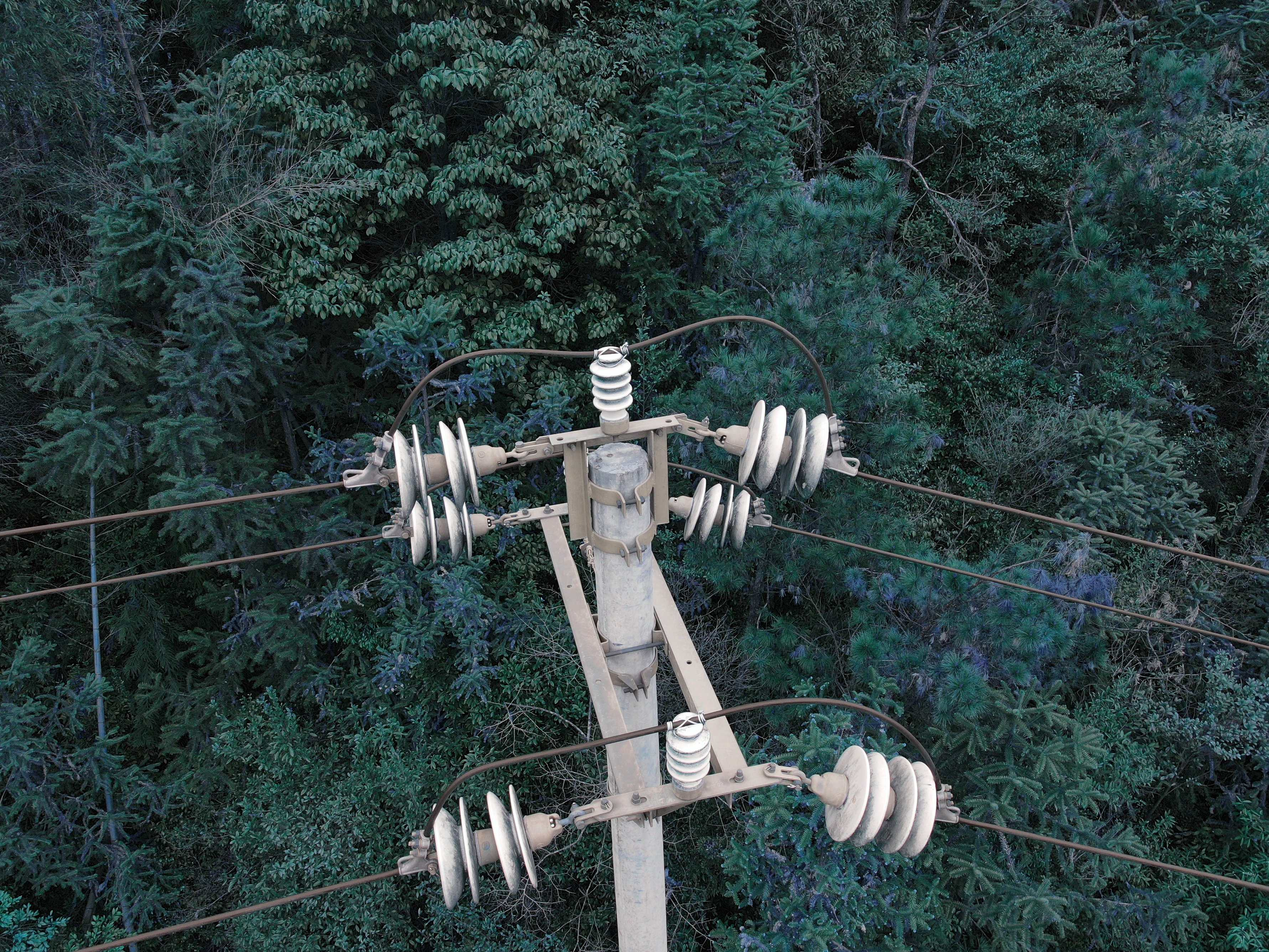severe_soiling_no_discharge_whole: (431, 783, 564, 907), (810, 740, 937, 861), (716, 395, 831, 500), (390, 415, 507, 517), (668, 475, 751, 555), (408, 495, 496, 564), (662, 712, 713, 799), (589, 345, 635, 436)
